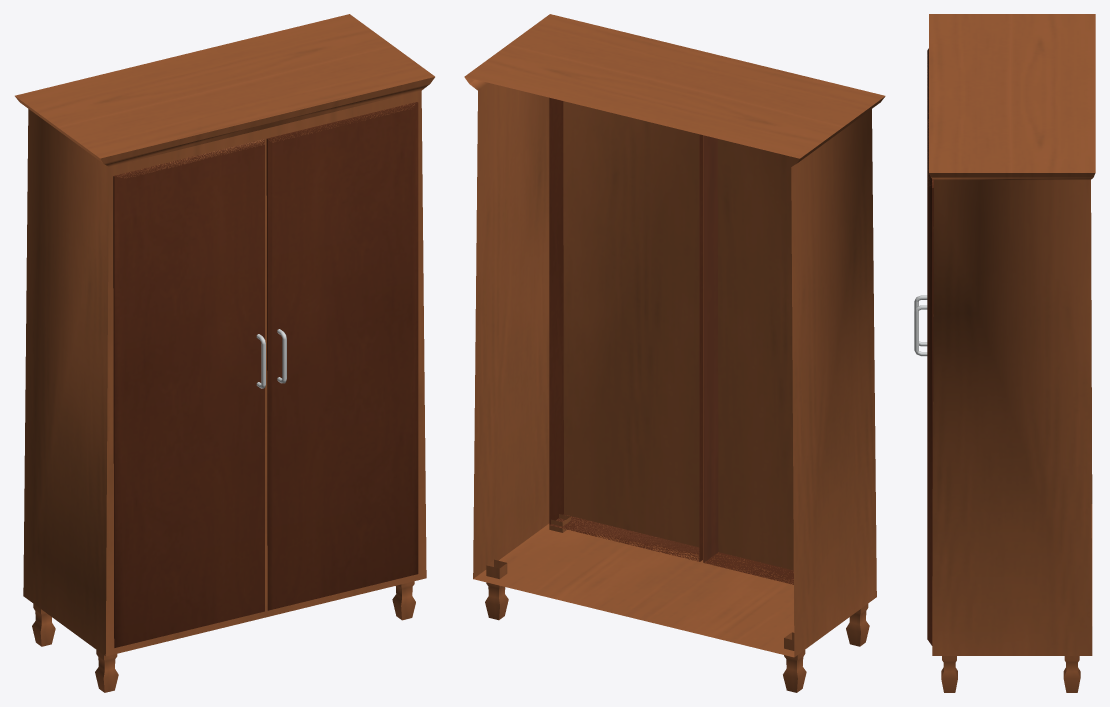
Rendered from Closet_001.fbx.
3 renders of one model, left to right at view 1: azimuth 30°, elevation 25°; view 2: azimuth 150°, elevation 25°; view 3: azimuth 270°, elevation 25°, orthographic. The views are drawn at different scales.
Visible parts, largest first — view 1: Closet_001, Closet_003, Closet_002; view 2: Closet_001, Closet_006, Closet_003, Closet_002, Closet_004, Closet_005; view 3: Closet_001.
Boxes of the visible parts, <box> form: Closet_001: <box>15,14,434,692</box>; Closet_003: <box>114,102,415,610</box>; Closet_002: <box>118,102,416,632</box>; Closet_001: <box>464,14,885,692</box>; Closet_006: <box>553,135,718,562</box>; Closet_003: <box>553,134,702,561</box>; Closet_002: <box>550,134,699,561</box>; Closet_004: <box>556,135,793,584</box>; Closet_005: <box>559,134,793,579</box>; Closet_001: <box>914,14,1095,692</box>.
Size of the model in its own units: 6.63 by 10.26 by 3.19.
